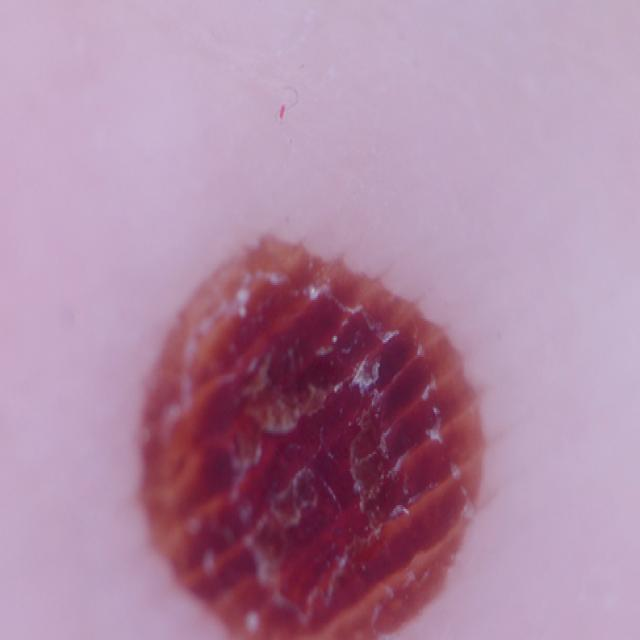Vascular Lesions: (134, 182, 509, 640)
